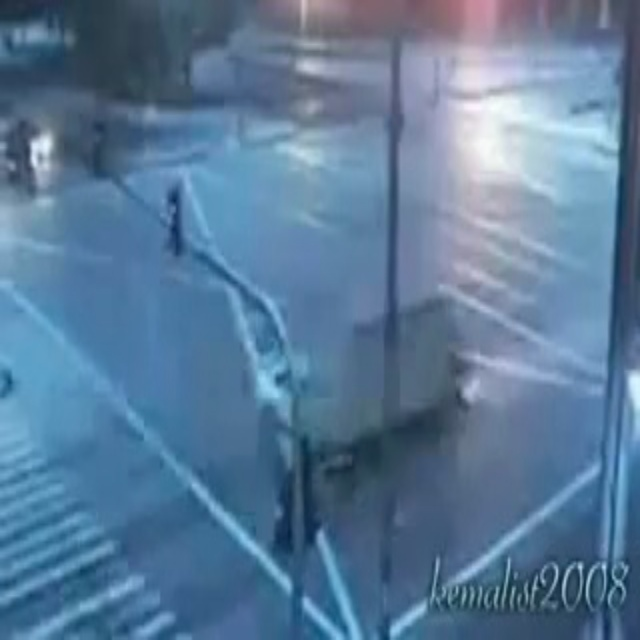acc: (195, 252, 503, 455)
